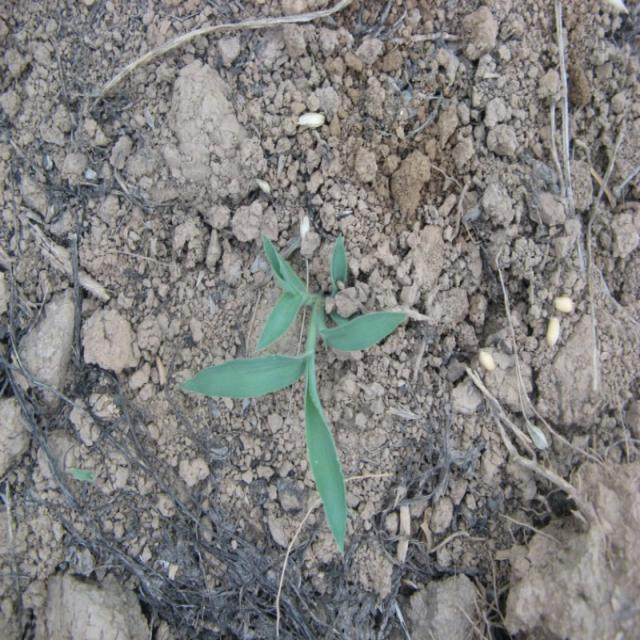bg: (180, 216, 407, 546)
